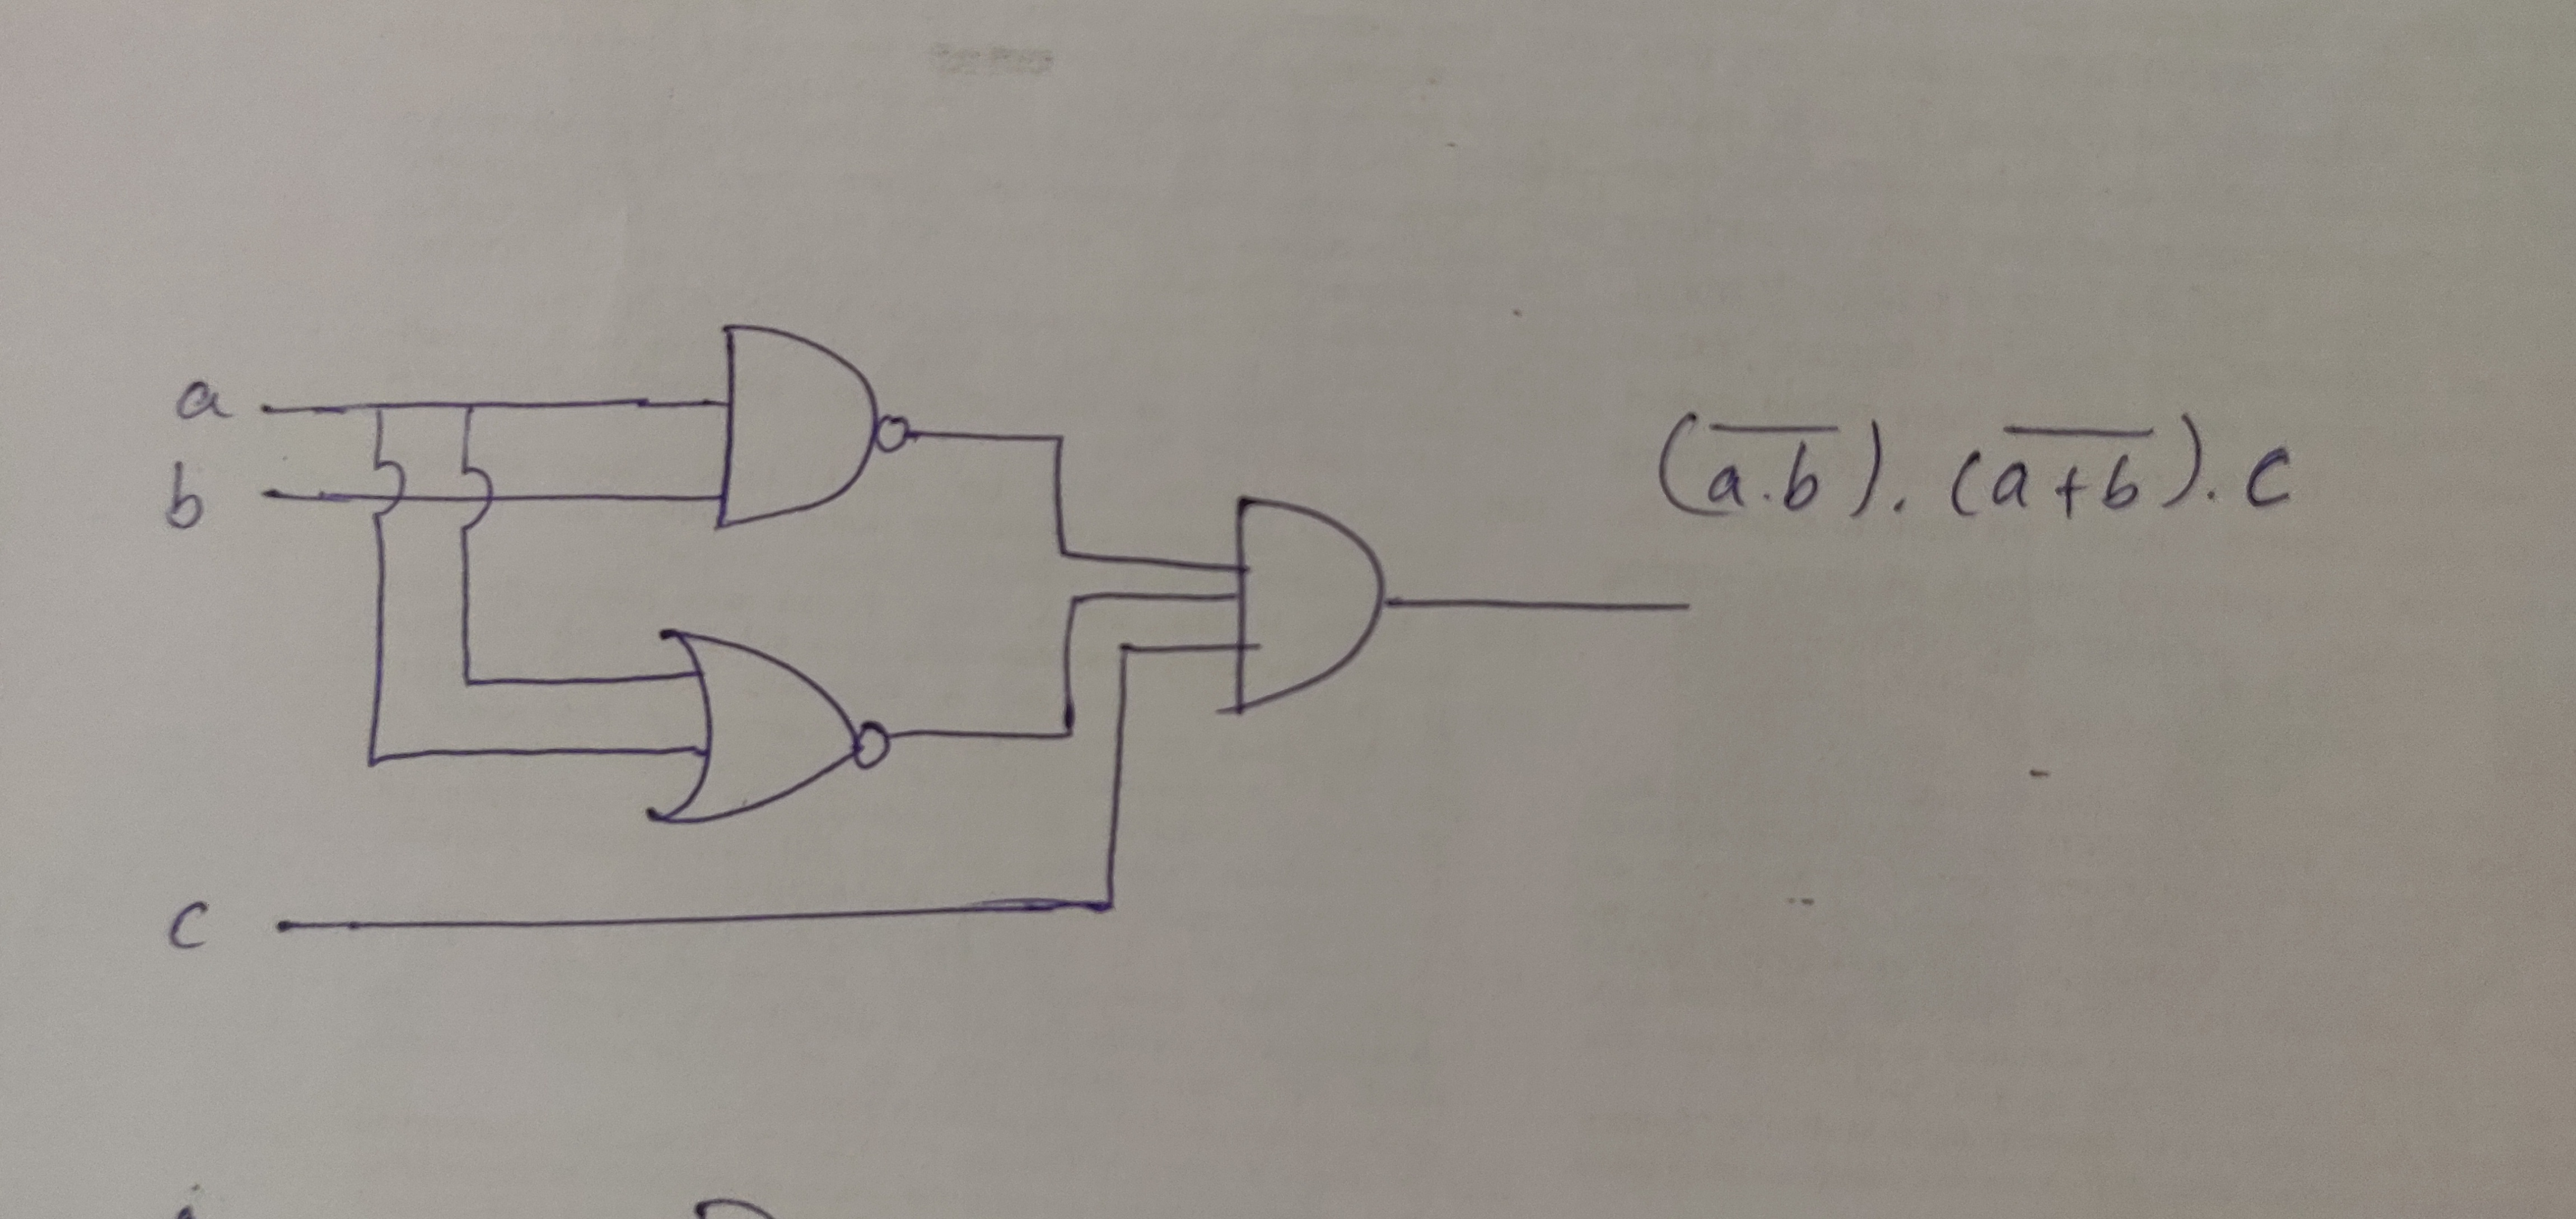and: (1183, 465, 1446, 757)
nand: (688, 276, 935, 573)
nor: (642, 603, 932, 876)
